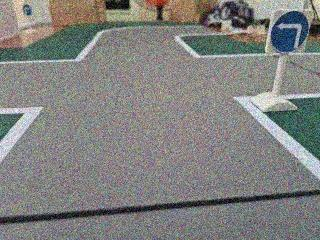left: (265, 6, 316, 56)
